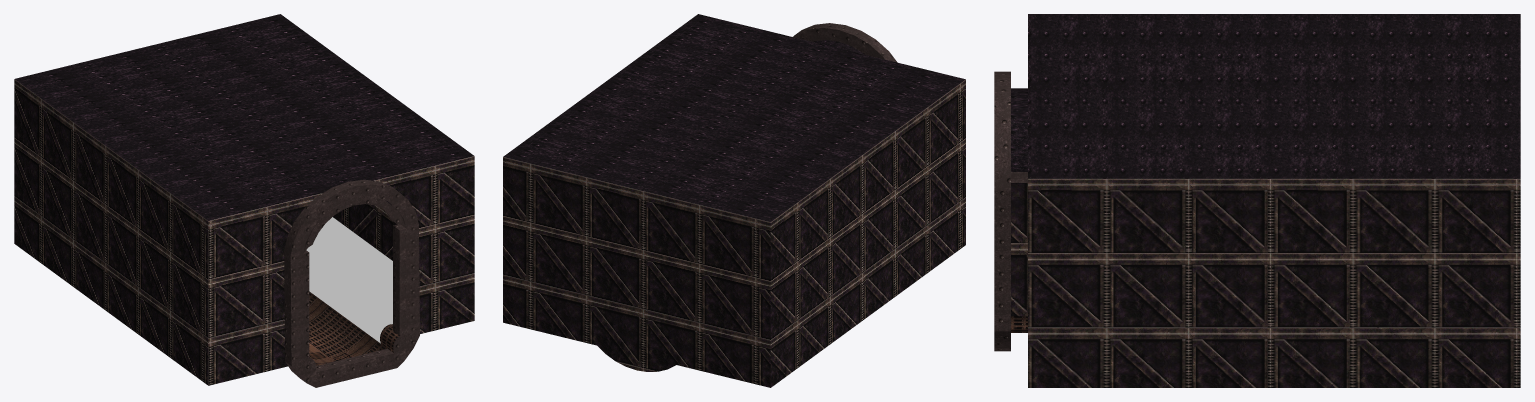
File: habitacion.fbx
The picture shows the model from 3 angles, left to right: view 1: azimuth 30°, elevation 25°; view 2: azimuth 150°, elevation 25°; view 3: azimuth 270°, elevation 25°; orthographic projection. The views are drawn at different scales.
Parts seen in each view (by area): view 1: Model; view 2: Model; view 3: Model.
Boxes of the visible parts, x1=… form: Model: x1=14, y1=14, x2=474, y2=387; Model: x1=503, y1=14, x2=965, y2=387; Model: x1=994, y1=14, x2=1520, y2=387.
Size of the model in its own units: 4.45 by 3.07 by 6.
